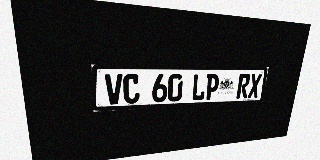0: (167, 74, 183, 102)
6: (152, 74, 168, 102)
C: (123, 74, 140, 104)
L: (191, 74, 207, 101)
P: (205, 74, 220, 100)
R: (236, 74, 251, 98)
V: (105, 74, 123, 105)
X: (247, 74, 262, 98)
